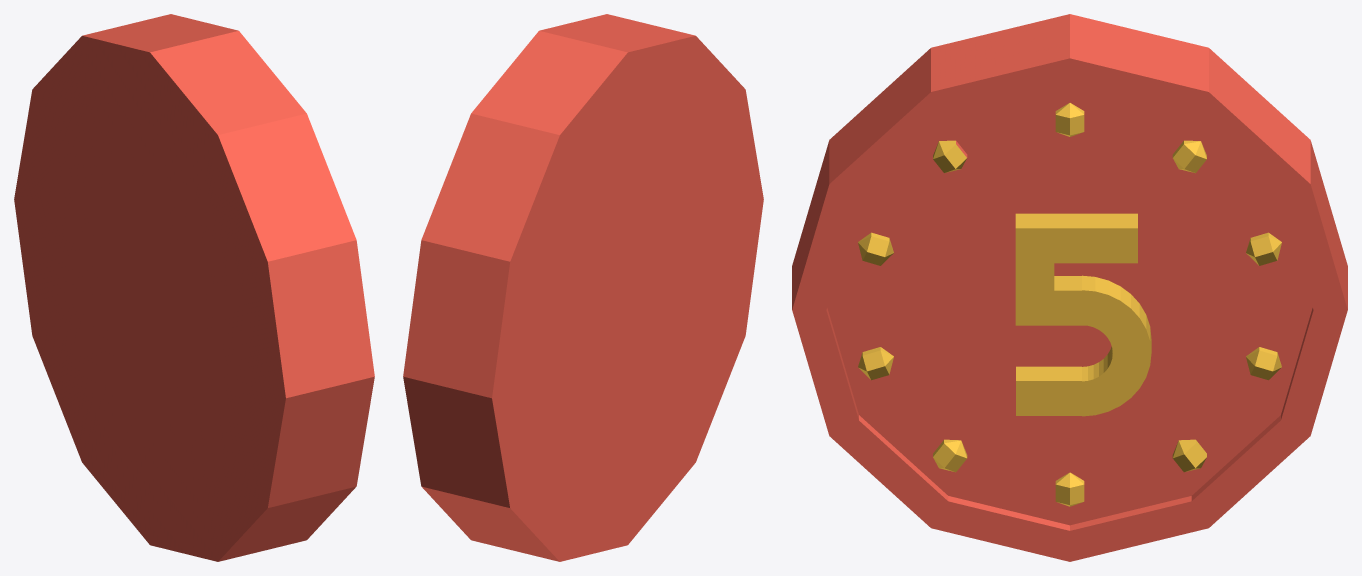
The model's file is coin.fbx.
3 renders of one model, left to right at view 1: azimuth 30°, elevation 25°; view 2: azimuth 150°, elevation 25°; view 3: azimuth 270°, elevation 25°, orthographic. The views are drawn at different scales.
Parts seen in each view (by area): view 1: 5; view 2: 5; view 3: 5.
Part boxes in pixels (<box>): 5: <box>14,14,374,561</box>; 5: <box>403,14,763,561</box>; 5: <box>792,14,1347,561</box>.
Bounding box in the file's own units: 27.82 × 123 × 123.
1 material, 1 textured.
